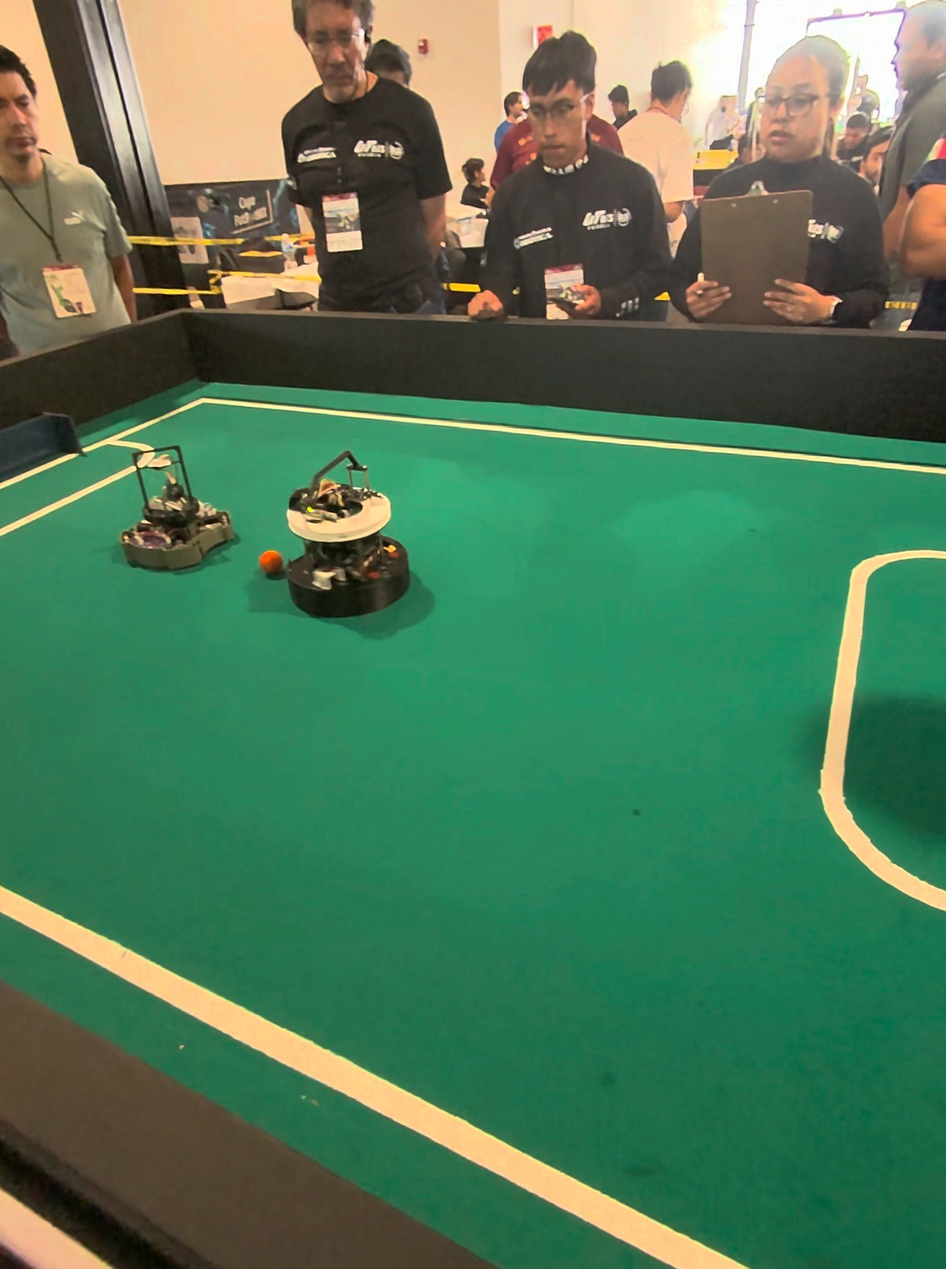Robot: (279, 448, 410, 639), (116, 446, 231, 585)
pelota: (257, 539, 286, 581)
